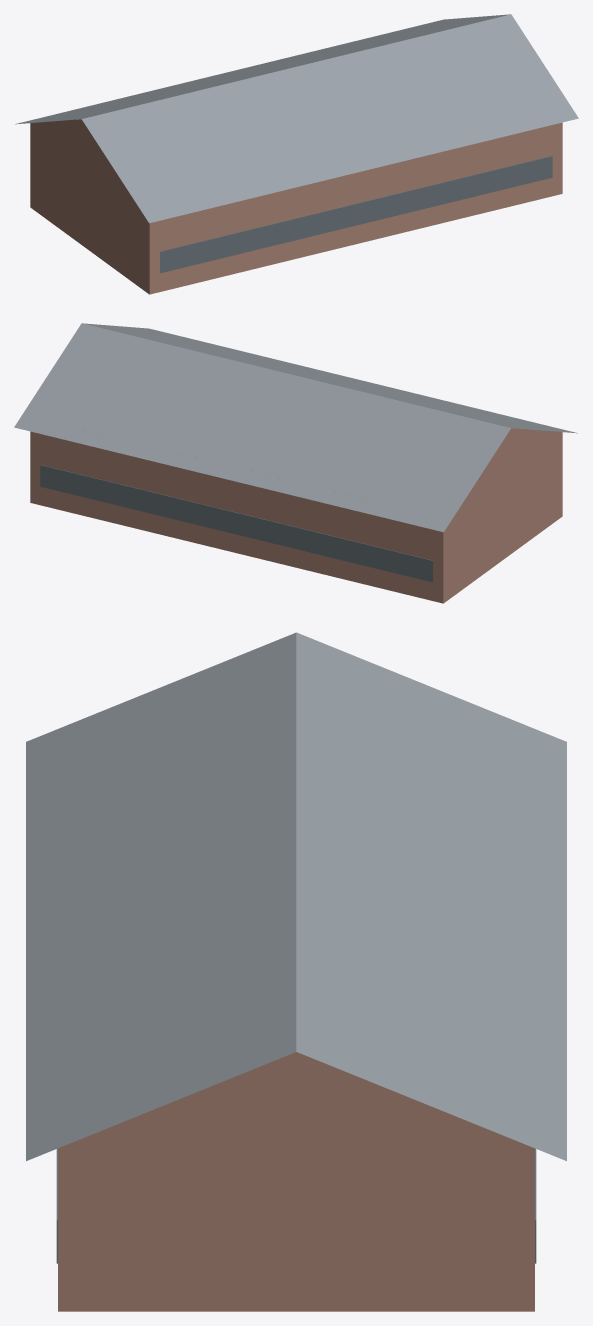
The model's file is fish-market.loc-v1.lod2.glb.
The picture shows the model from 3 angles, top to bottom: view 1: azimuth 30°, elevation 25°; view 2: azimuth 150°, elevation 25°; view 3: azimuth 270°, elevation 25°; orthographic projection. The views are drawn at different scales.
Visible parts, largest first — view 1: fish-market; view 2: fish-market; view 3: fish-market.
Part boxes in pixels (x1=…): fish-market: x1=15, y1=14, x2=578, y2=294; fish-market: x1=14, y1=323, x2=577, y2=603; fish-market: x1=26, y1=632, x2=566, y2=1311.
Size of the model in its own units: 24.96 by 7.43 by 13.6.
